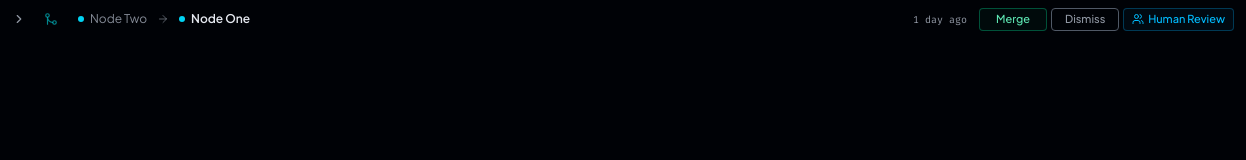
Test: ReviewRow › shows inline error when approve returns an Error envelope
// merge_nodes action uses "Merge" as the approve verb (ACTION_LABELS)
Step 1. Click the button "Merge" → (1013, 19), box [979,8,1047,30]
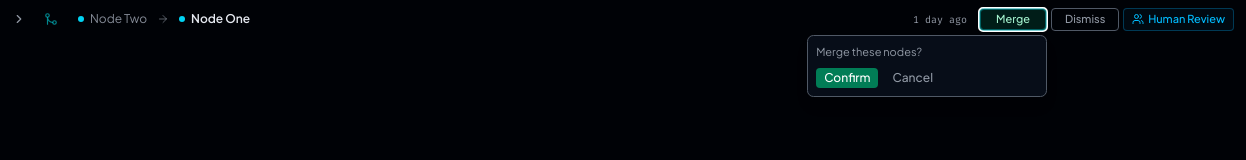
Step 2. Click the button "Confirm" → (847, 78), box [816,68,878,88]
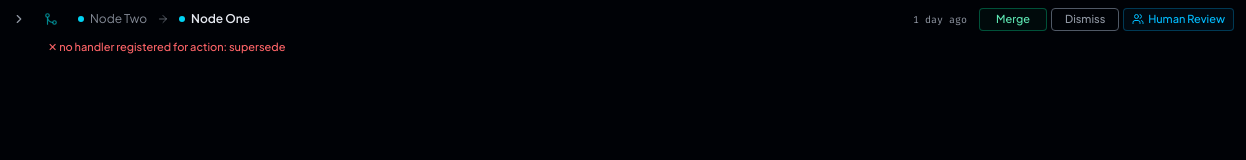
Expected: the text "✕ no handler registered for action: supersede" is shown, [48,40,285,52]
